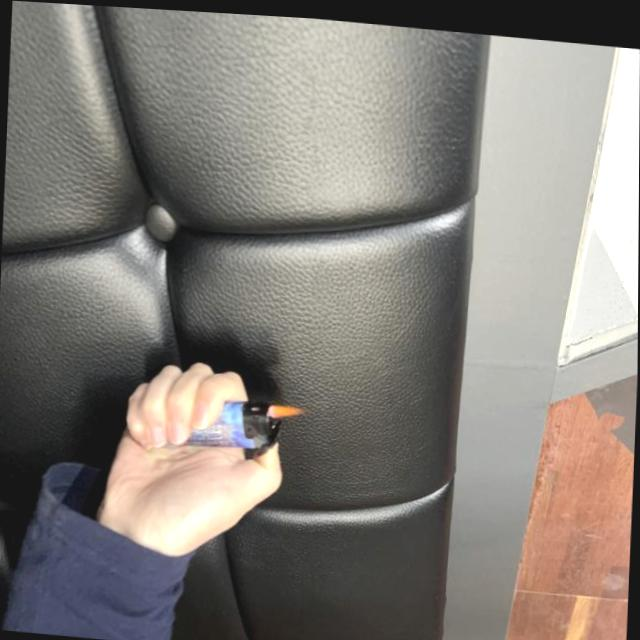helmet: (266, 401, 304, 416)
